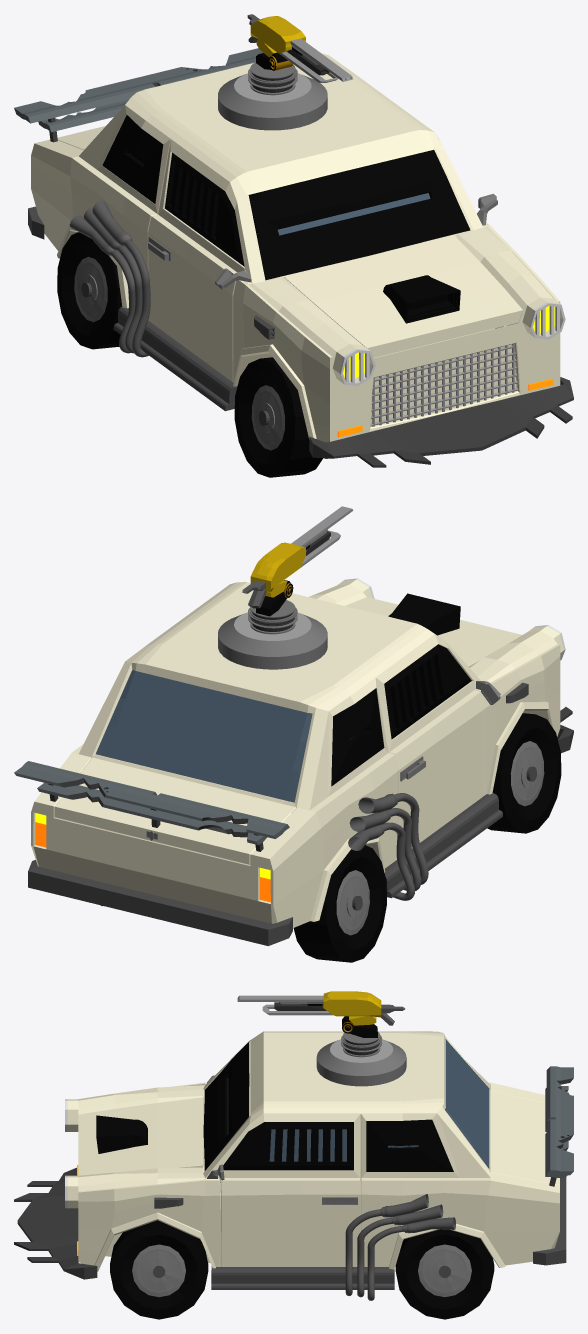
The model's file is Tarabant final version (3).fbx.
The picture shows the model from 3 angles, top to bottom: view 1: azimuth 30°, elevation 25°; view 2: azimuth 150°, elevation 25°; view 3: azimuth 270°, elevation 25°; orthographic projection. The views are drawn at different scales.
Visible parts, largest first — view 1: Car, Car.002, Kapot, Taran, Car.003, wheel 2, wheel 1, Radiator, WARNING Spoiler, Cylinder, cool tubes, POROGI (+4 smaller); view 2: Car, Car.004, Car.003, WARNING Spoiler, wheel 1, wheel 2, back bumper, Cylinder, cool tubes, Cube.002, POROGI, Kapot (+2 smaller); view 3: Car, Car.003, Wheel 4, Wheel 3, Kapot, Taran, cool tubes, POROGI, Car.002, Car.004, Cube.002, WARNING Spoiler (+4 smaller).
Part boxes in pixels (x1,y1,x2,y2): Car: [31, 53, 561, 442]; Car.002: [248, 150, 470, 280]; Kapot: [284, 235, 522, 357]; Taran: [309, 377, 573, 467]; Car.003: [102, 115, 244, 266]; wheel 2: [234, 357, 322, 477]; wheel 1: [57, 232, 122, 349]; Radiator: [370, 344, 517, 426]; WARNING Spoiler: [14, 48, 263, 142]; Cylinder: [218, 73, 327, 130]; cool tubes: [69, 200, 150, 357]; POROGI: [113, 307, 237, 411]; Car: [31, 579, 563, 927]; Car.004: [96, 669, 312, 802]; Car.003: [331, 644, 471, 786]; WARNING Spoiler: [14, 761, 289, 851]; wheel 1: [293, 845, 386, 962]; wheel 2: [487, 713, 561, 833]; back bumper: [28, 860, 292, 946]; Cylinder: [218, 612, 327, 669]; cool tubes: [348, 793, 428, 900]; Cube.002: [242, 506, 353, 608]; POROGI: [384, 793, 502, 898]; Kapot: [345, 597, 521, 666]; Car: [67, 1031, 559, 1271]; Car.003: [223, 1119, 453, 1171]; Wheel 4: [110, 1220, 208, 1319]; Wheel 3: [395, 1229, 494, 1319]; Kapot: [78, 1097, 203, 1175]; Taran: [14, 1167, 97, 1279]; cool tubes: [345, 1194, 455, 1300]; POROGI: [211, 1266, 394, 1289]; Car.002: [203, 1042, 249, 1170]; Car.004: [445, 1039, 489, 1168]; Cube.002: [237, 991, 405, 1025]; WARNING Spoiler: [545, 1066, 573, 1186].
Bounding box in the file's own units: 570 × 613 × 1138.
